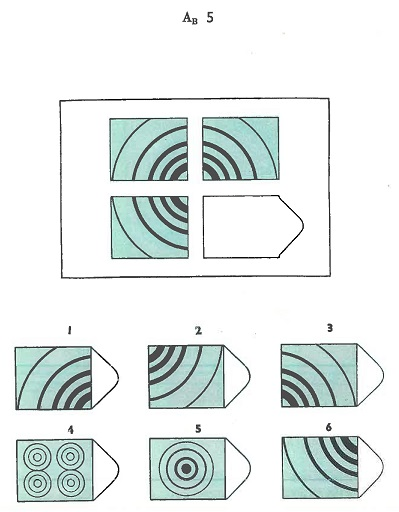Array 1: (11, 322, 121, 413)
Array 2: (144, 321, 253, 412)
Array 3: (276, 321, 385, 411)
Array 4: (12, 418, 123, 505)
Array 5: (145, 416, 254, 503)
Array 6: (277, 416, 388, 502)
Matrix 1: (105, 112, 194, 185)
Matrix 2: (199, 113, 284, 185)
Matrix 3: (107, 191, 192, 263)
Matrix Unknown: (200, 191, 306, 262)
